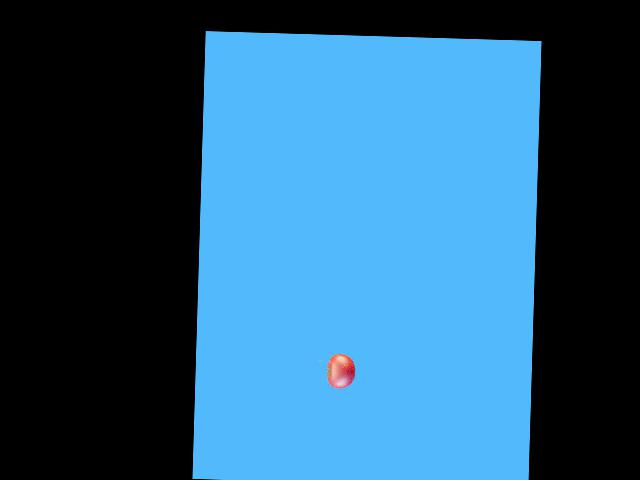tomato: (326, 354, 356, 389)
